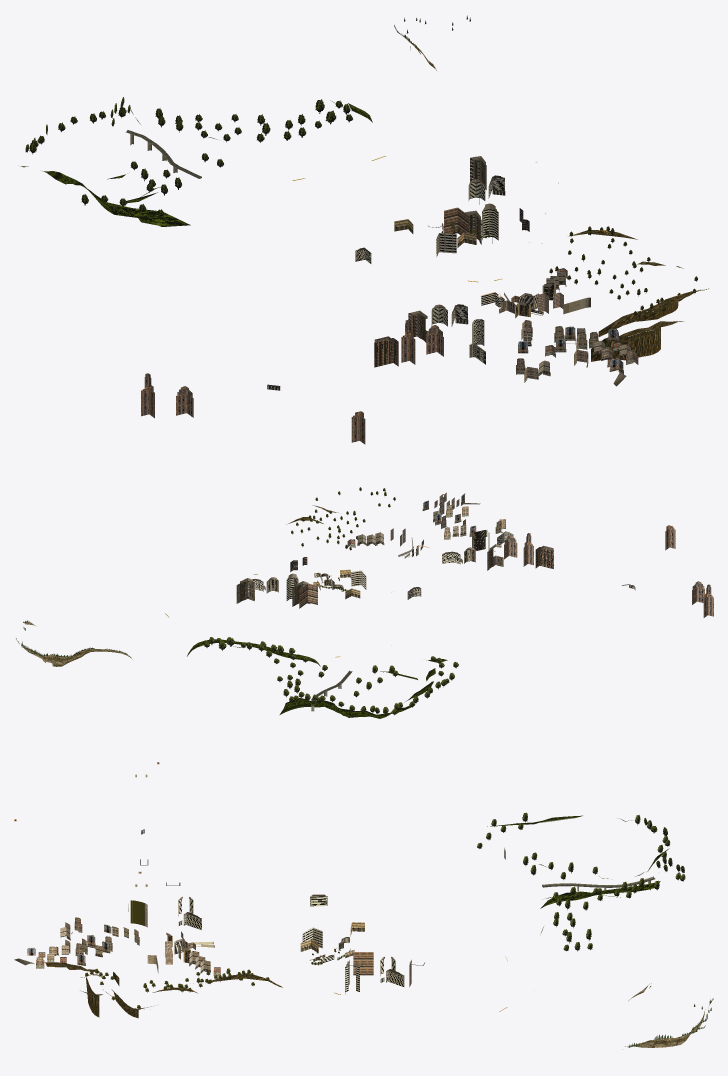
Rendered from track-B2_C5_V1_env.glb.
3 views of the same model, one above another, from view 1: azimuth 30°, elevation 25°; view 2: azimuth 150°, elevation 25°; view 3: azimuth 270°, elevation 25° (orthographic). The views are drawn at different scales.
Parts seen in each view (by area): view 1: B2_C5_V1_env; view 2: B2_C5_V1_env; view 3: B2_C5_V1_env.
Boxes of the visible parts, x1=… form: B2_C5_V1_env: x1=21, y1=15, x2=708, y2=444; B2_C5_V1_env: x1=16, y1=487, x2=713, y2=718; B2_C5_V1_env: x1=14, y1=762, x2=713, y2=1047.
Size of the model in its own units: 3290 by 330 by 3360.
Materials: 8 (8 with a texture image).
